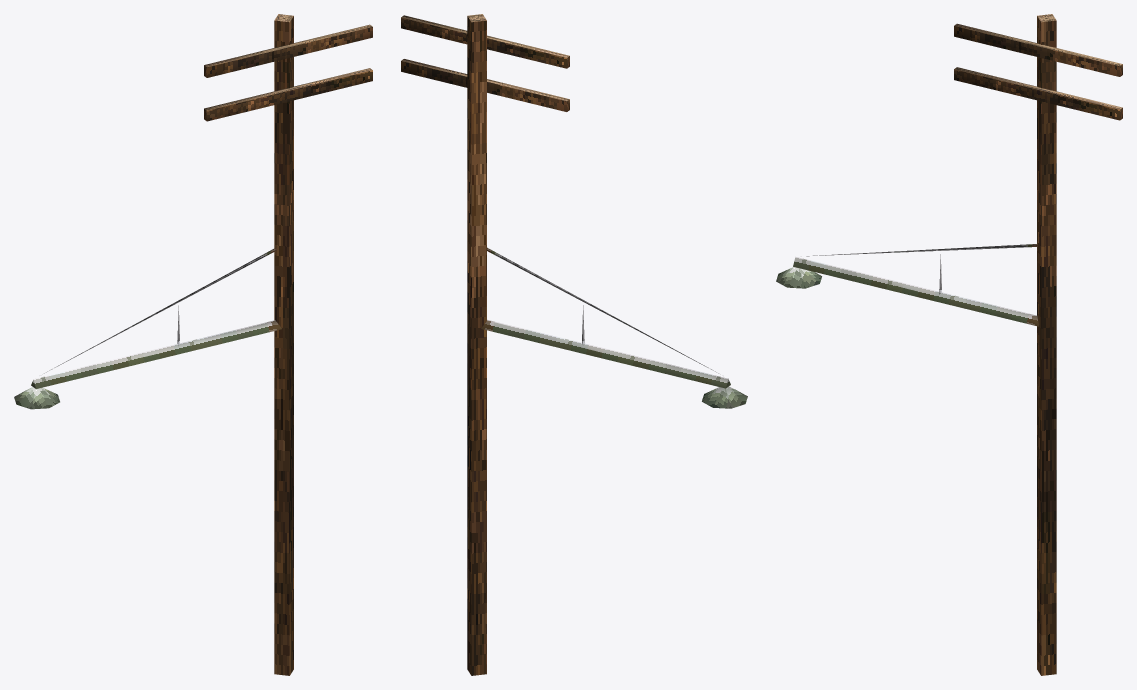
File: USA - Prop - Old Wooden Telephone Poll - PATtelpost.glb
The picture shows the model from 3 angles, left to right: view 1: azimuth 30°, elevation 25°; view 2: azimuth 150°, elevation 25°; view 3: azimuth 330°, elevation 25°; orthographic projection.
Visible parts, largest first — view 1: PATTELPOST; view 2: PATTELPOST; view 3: PATTELPOST.
Part boxes in pixels (x1=…): PATTELPOST: x1=14, y1=14, x2=372, y2=675; PATTELPOST: x1=401, y1=14, x2=747, y2=675; PATTELPOST: x1=776, y1=14, x2=1122, y2=675.
Size of the model in its own units: 21.77 by 38.95 by 2.59.
Materials: 1 (1 with a texture image).
